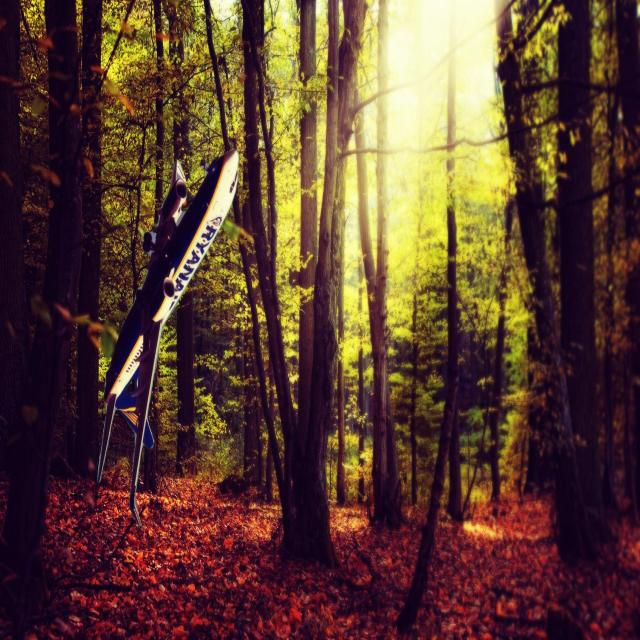airplane: (96, 147, 240, 529)
